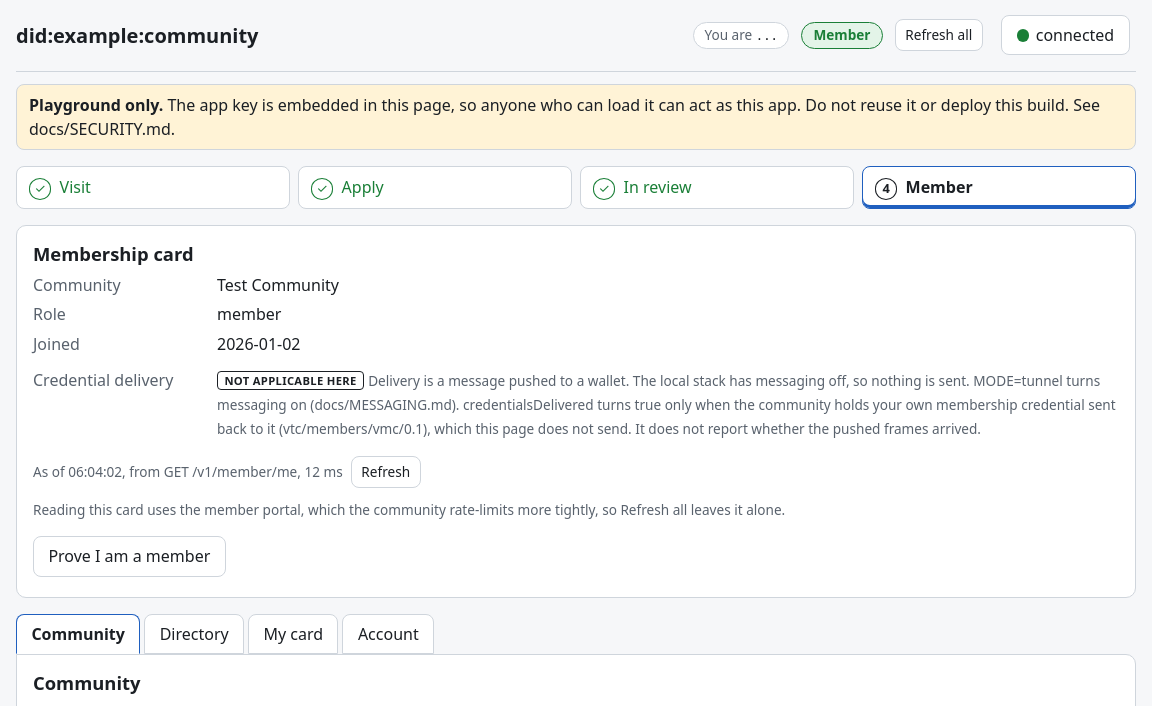
Test: member › Directory lists entries by id, never by DID
Step 1. Click the tab "Directory" → (194, 634), box [144,614,244,654]
(page scrolled)
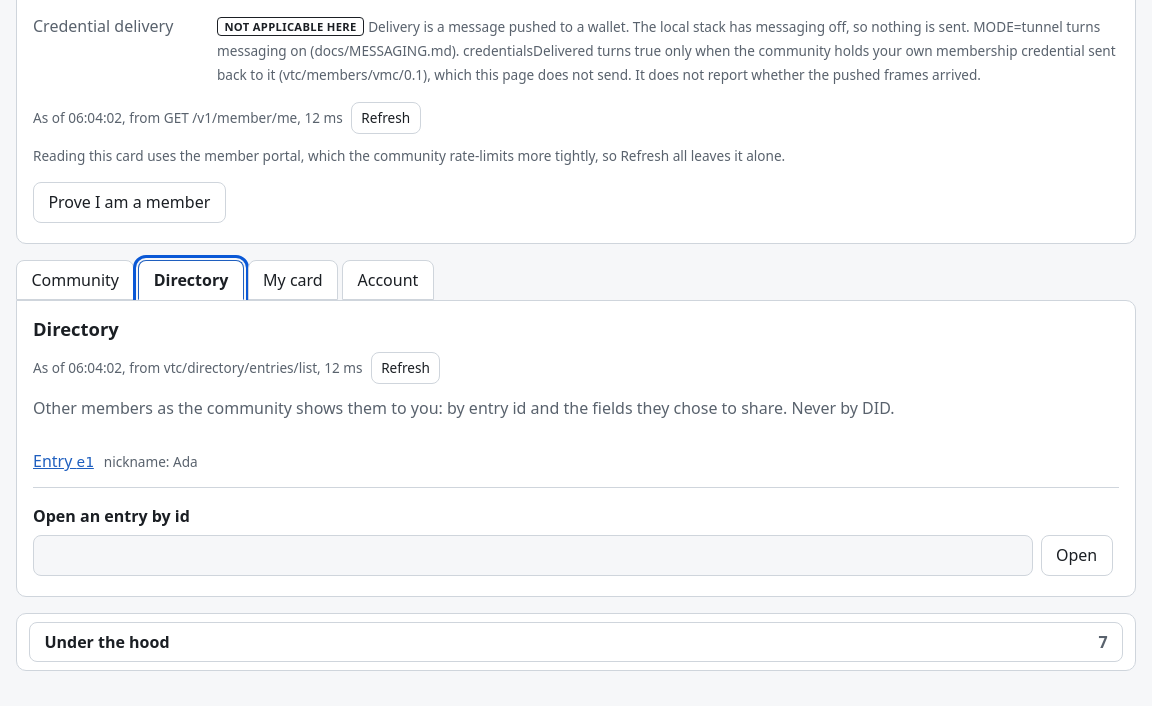
Now the text "e1" is shown, box [76,454,94,470]
